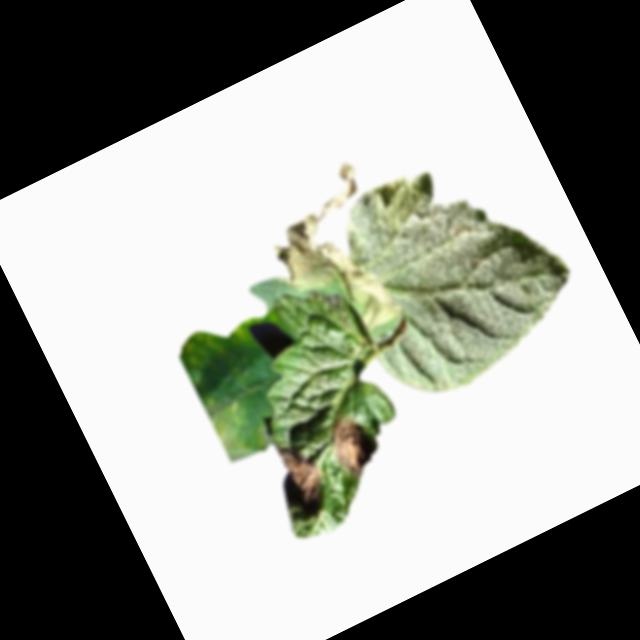Late_blight: (248, 157, 420, 356), (177, 341, 259, 455), (318, 404, 389, 487), (273, 434, 337, 517)
healthy: (309, 127, 594, 415)
